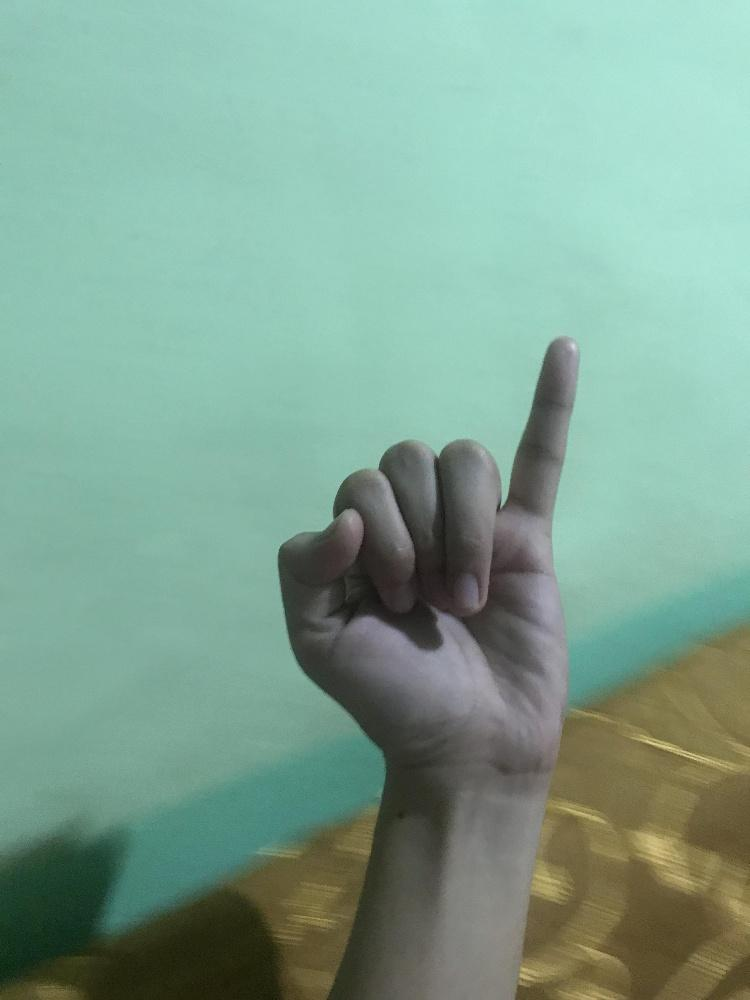i: (273, 331, 580, 774)
